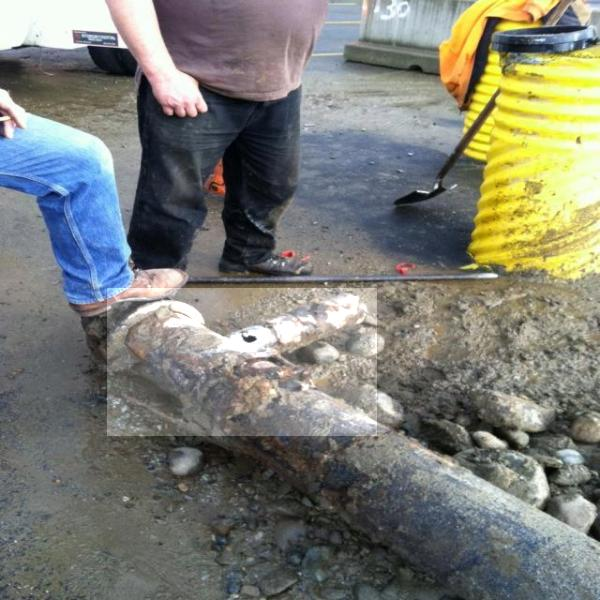water: (107, 288, 377, 436)
